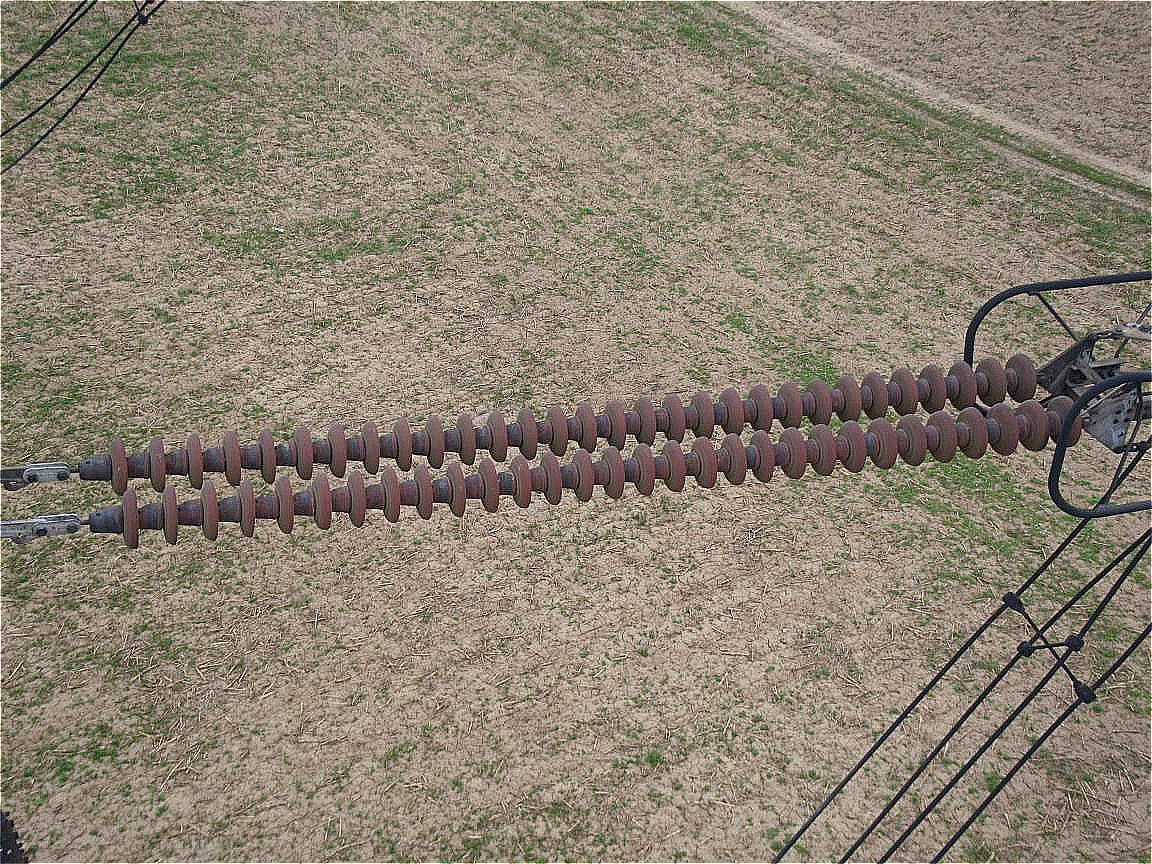insultor1: (47, 347, 1120, 552)
